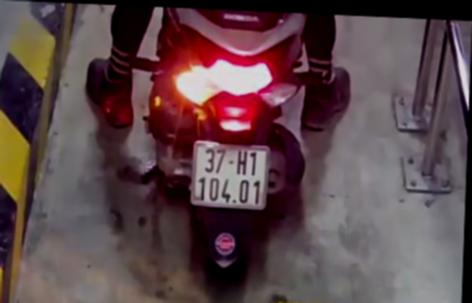License_Plate: (179, 138, 289, 217)
